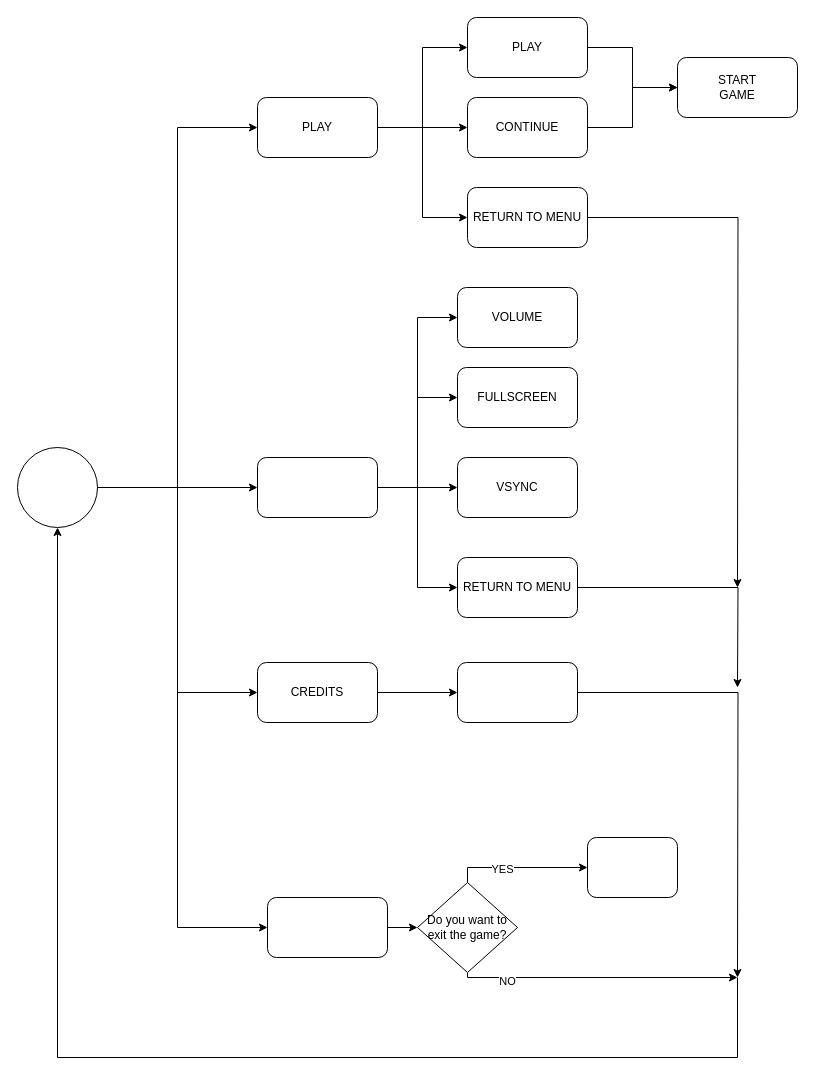
Image size: 815x1083. Some labels were removed from this diagram. The centre of each missing label's shape, as x and y in pixels:
CLOSES THE GAME: [632,867]
EXIT GAME: [327,927]
MAIN MENU: [57,487]
OPTIONS: [317,487]
SHOW THE CREDITS: [517,692]
